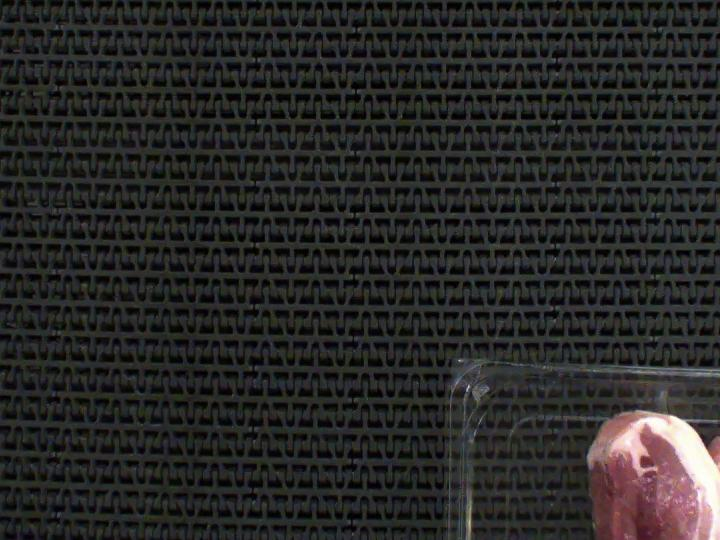packaging-error: (646, 379, 681, 416)
